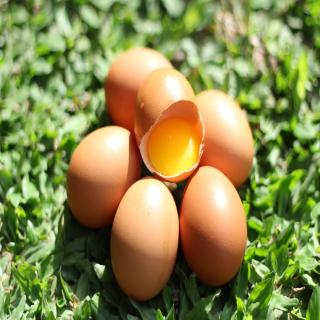Telur: (66, 123, 143, 231)
